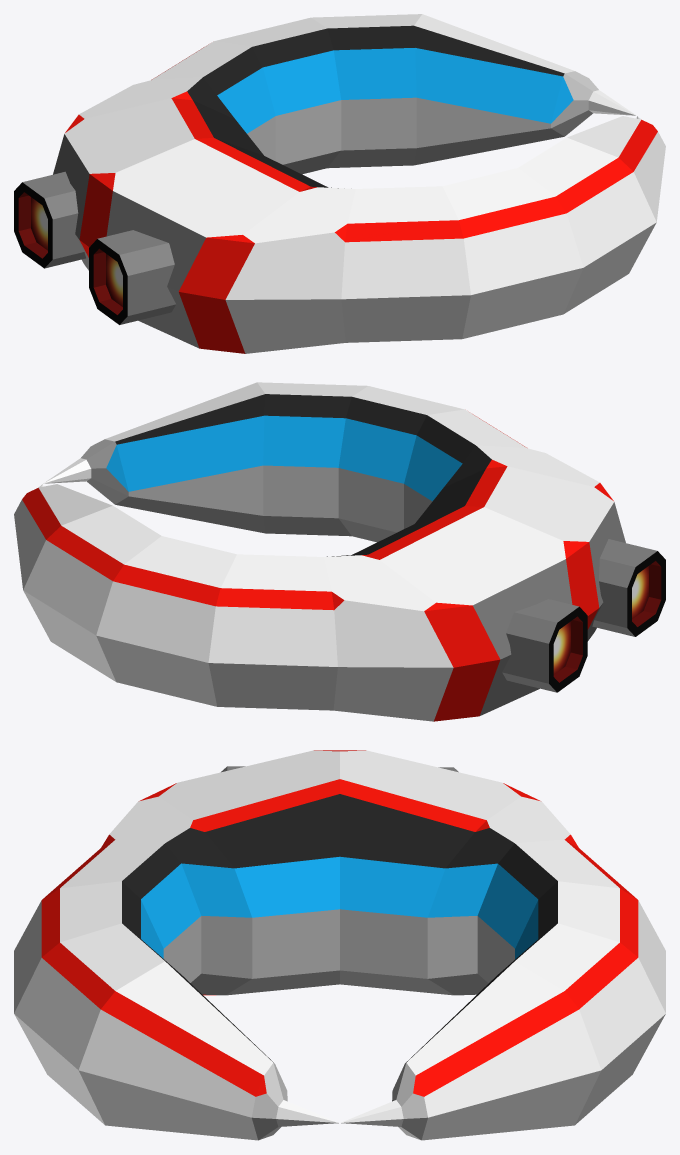
Rendered from SpiperShip.fbx.
The picture shows the model from 3 angles, top to bottom: view 1: azimuth 30°, elevation 25°; view 2: azimuth 150°, elevation 25°; view 3: azimuth 270°, elevation 25°; orthographic projection. The views are drawn at different scales.
Visible parts, largest first — view 1: Torus; view 2: Torus; view 3: Torus.
Boxes of the visible parts, left/top/right/bottom form: Torus: left=14, top=14, right=665, bottom=353; Torus: left=14, top=382, right=665, bottom=721; Torus: left=14, top=750, right=665, bottom=1140.
Size of the model in its own units: 513 by 146 by 447.
